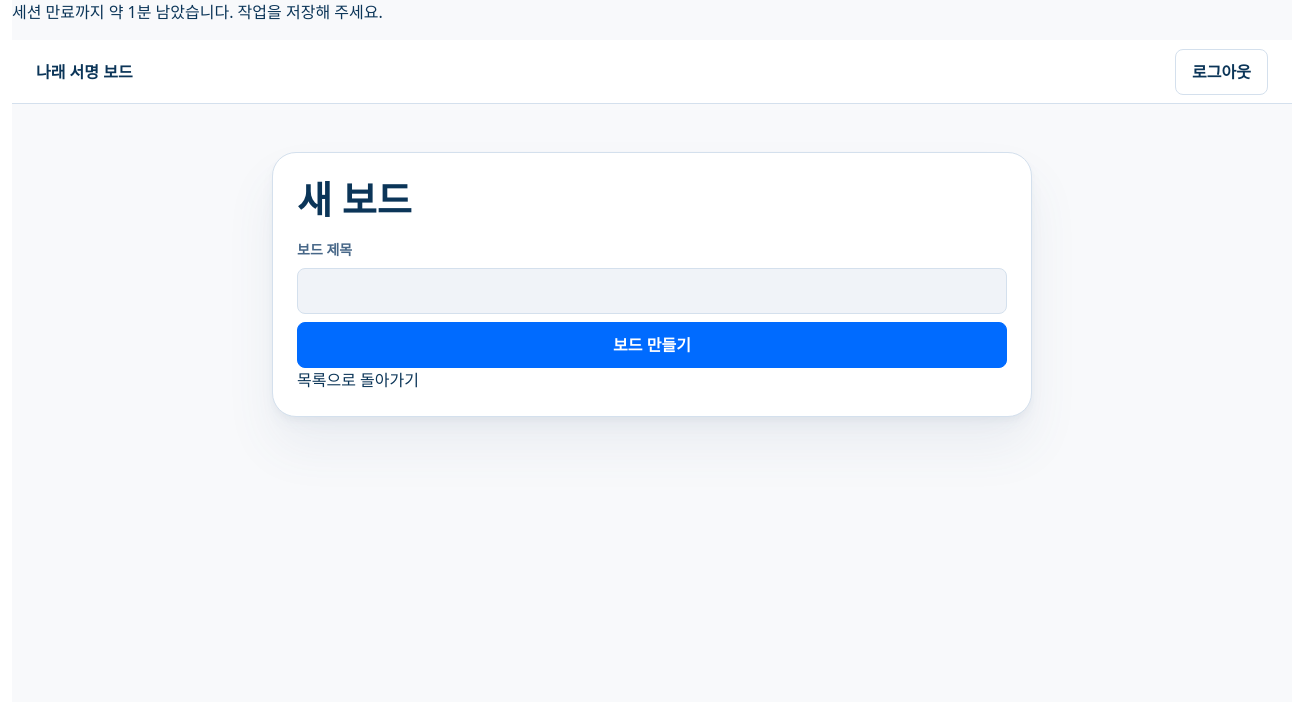
Test: administrator board routes › creates a Korean-title board and navigates to its roster editor
Type "여름 발표회" into the field labelled "보드 제목".
click(652, 291); type("여름 발표회")  # box [297,268,1007,314]
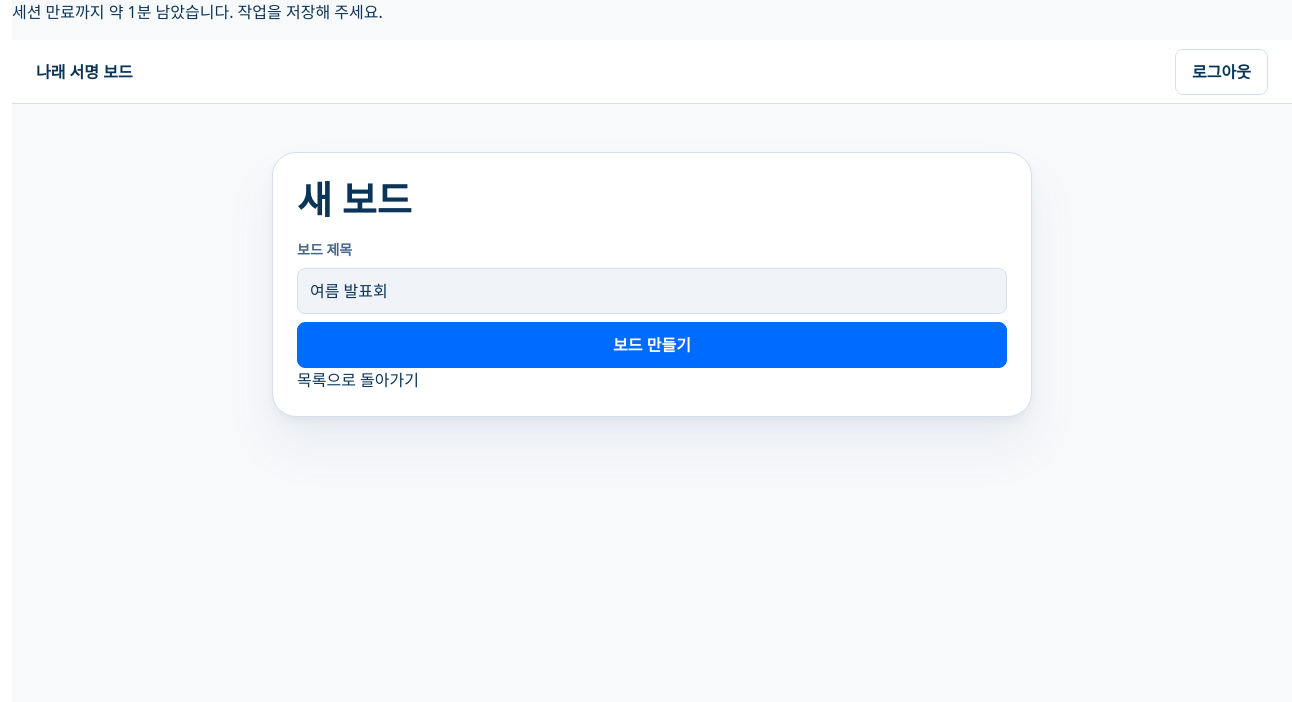
Click the button "보드 만들기".
click(652, 345)  # box [297,322,1007,368]
(page scrolled)
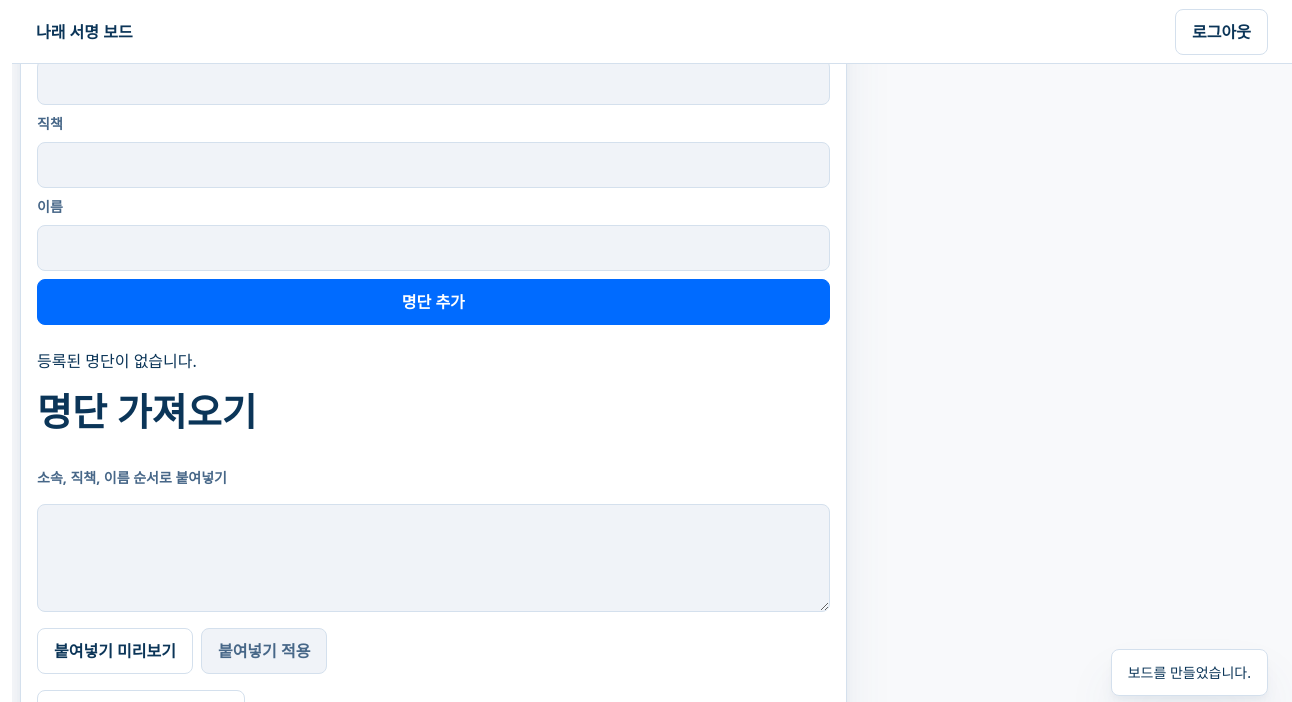
expect the text "등록된 명단이 없습니다." is shown: met, box [37,350,197,372]
